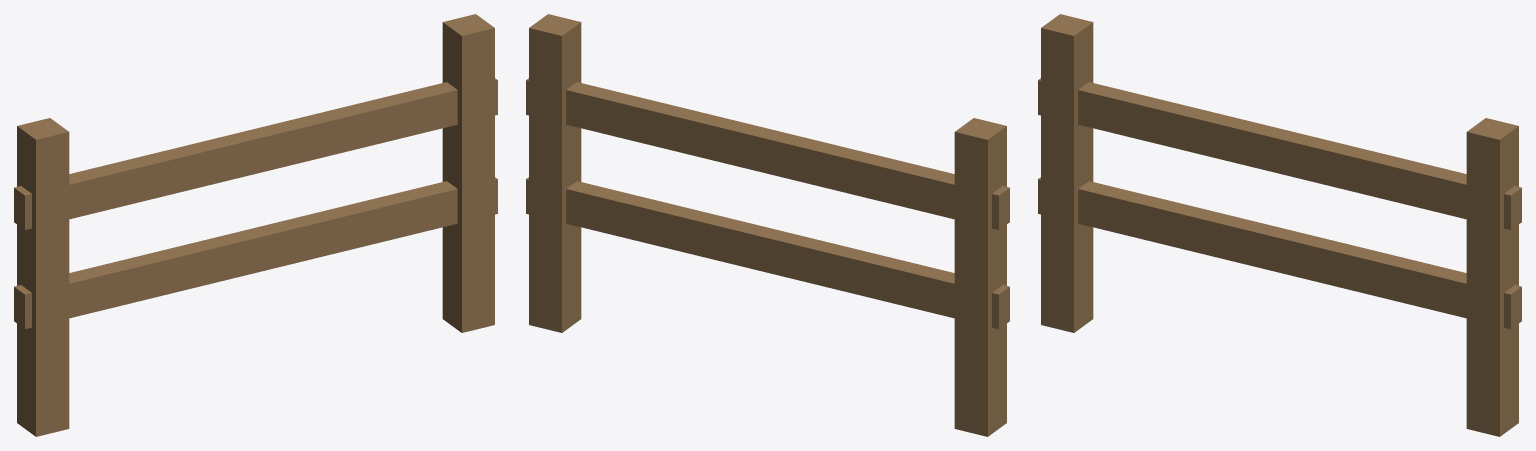
The model's file is fence-segment.glb.
The picture shows the model from 3 angles, left to right: view 1: azimuth 30°, elevation 25°; view 2: azimuth 150°, elevation 25°; view 3: azimuth 330°, elevation 25°; orthographic projection.
Parts seen in each view (by area): view 1: meadow-fence-segment; view 2: meadow-fence-segment; view 3: meadow-fence-segment.
Part boxes in pixels (x1=…): meadow-fence-segment: x1=14, y1=14, x2=497, y2=436; meadow-fence-segment: x1=526, y1=14, x2=1009, y2=436; meadow-fence-segment: x1=1038, y1=14, x2=1521, y2=436.
Bounding box in the file's own units: 1 × 0.6 × 0.07.
